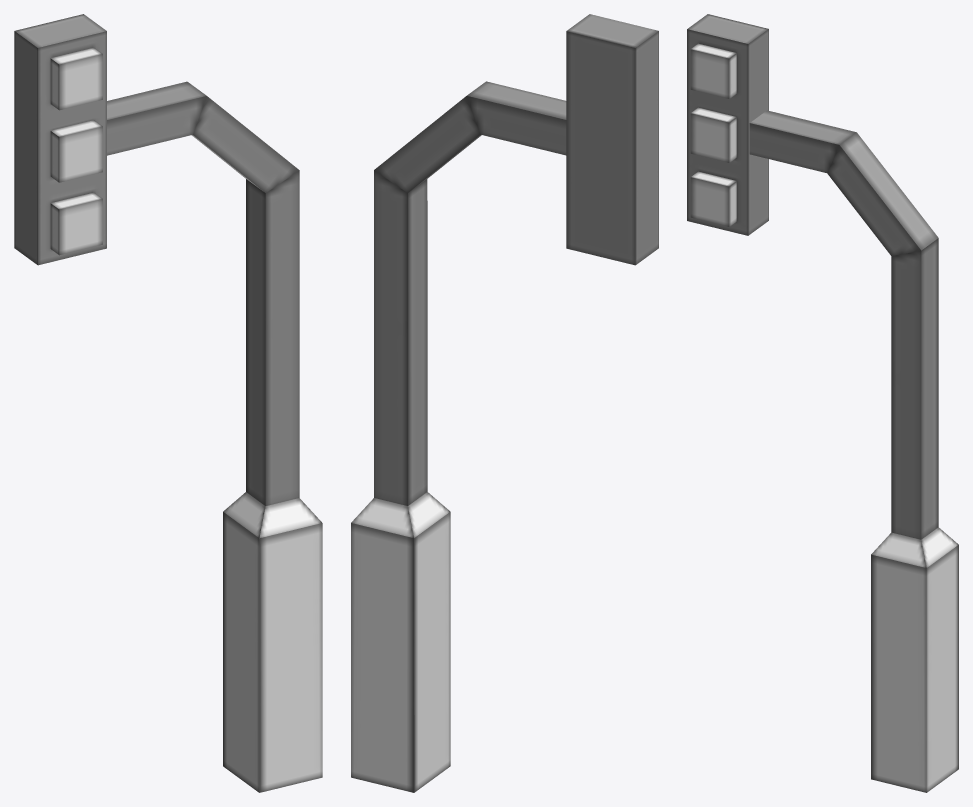
Rendered from Traffic-lights-01.fbx.
3 renders of one model, left to right at view 1: azimuth 30°, elevation 25°; view 2: azimuth 150°, elevation 25°; view 3: azimuth 330°, elevation 25°, orthographic. The views are drawn at different scales.
Parts seen in each view (by area): view 1: Traffic_lights_01; view 2: Traffic_lights_01; view 3: Traffic_lights_01.
Boxes of the visible parts, left/top/right/bottom form: Traffic_lights_01: left=14, top=14, right=322, bottom=792; Traffic_lights_01: left=351, top=14, right=658, bottom=792; Traffic_lights_01: left=687, top=14, right=958, bottom=792.
Size of the model in its own units: 0.8883 by 2.42 by 0.213.
